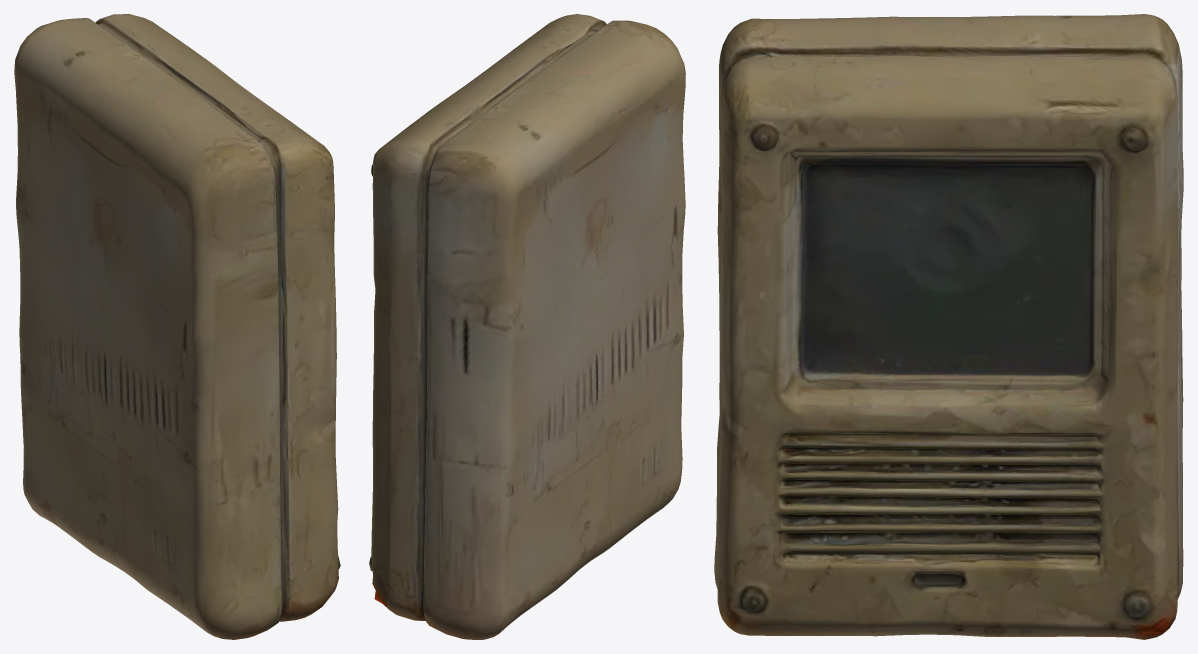
The model's file is status.glb.
3 views of the same model, side by side, from view 1: azimuth 30°, elevation 25°; view 2: azimuth 150°, elevation 25°; view 3: azimuth 270°, elevation 25° (orthographic). The views are drawn at different scales.
Parts seen in each view (by area): view 1: tripo_node_6069766c-a8dc-467e-9736-14d5417fd9af; view 2: tripo_node_6069766c-a8dc-467e-9736-14d5417fd9af; view 3: tripo_node_6069766c-a8dc-467e-9736-14d5417fd9af.
Boxes of the visible parts, x1=… form: tripo_node_6069766c-a8dc-467e-9736-14d5417fd9af: x1=14, y1=14, x2=340, y2=639; tripo_node_6069766c-a8dc-467e-9736-14d5417fd9af: x1=369, y1=14, x2=685, y2=639; tripo_node_6069766c-a8dc-467e-9736-14d5417fd9af: x1=714, y1=14, x2=1183, y2=639.
Size of the model in its own units: 0.3228 by 0.9998 by 0.7292.
Materials: 1 (1 with a texture image).
